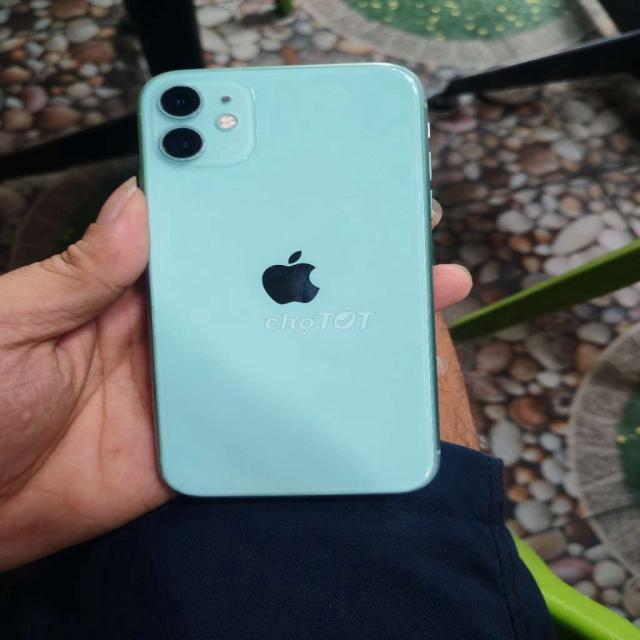gen_11: (140, 64, 438, 498)
